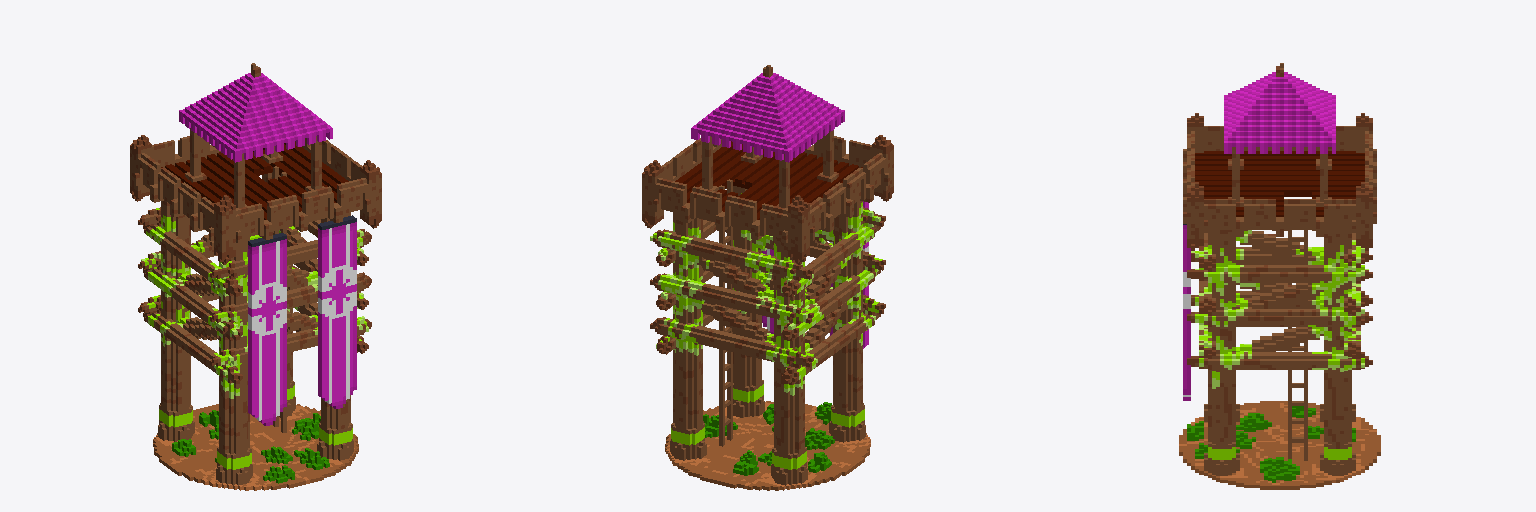
3 views of the same model, side by side, from view 1: azimuth 30°, elevation 25°; view 2: azimuth 150°, elevation 25°; view 3: azimuth 270°, elevation 25° (orthographic).
Parts seen in each view (by area): view 1: object 1; view 2: object 1; view 3: object 1.
Part boxes in pixels (x1,y1,x2,y2): object 1: (130, 63, 381, 490); object 1: (642, 65, 893, 490); object 1: (1179, 63, 1380, 489).
Bounding box in the file's own units: 5 × 10.5 × 5.
1 materials, 1 textured.